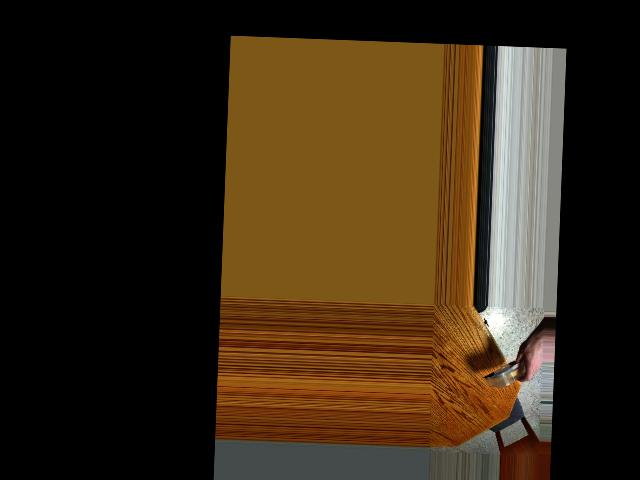cheese: (484, 360, 528, 389)
